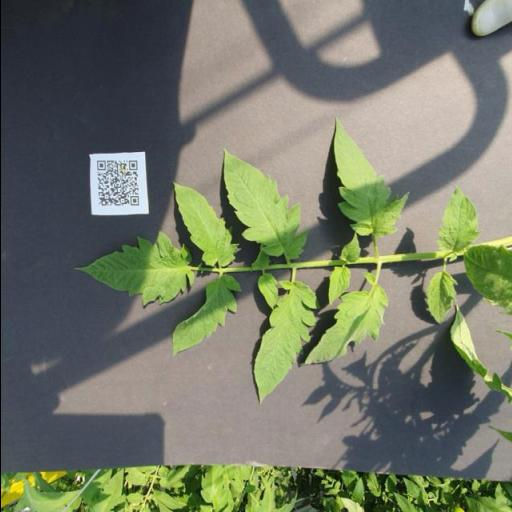Healthy: (219, 148, 308, 260), (331, 113, 409, 239), (74, 234, 194, 306), (252, 280, 318, 404), (296, 286, 390, 370), (169, 274, 243, 358), (168, 182, 240, 268), (435, 186, 483, 258), (425, 272, 457, 326)
